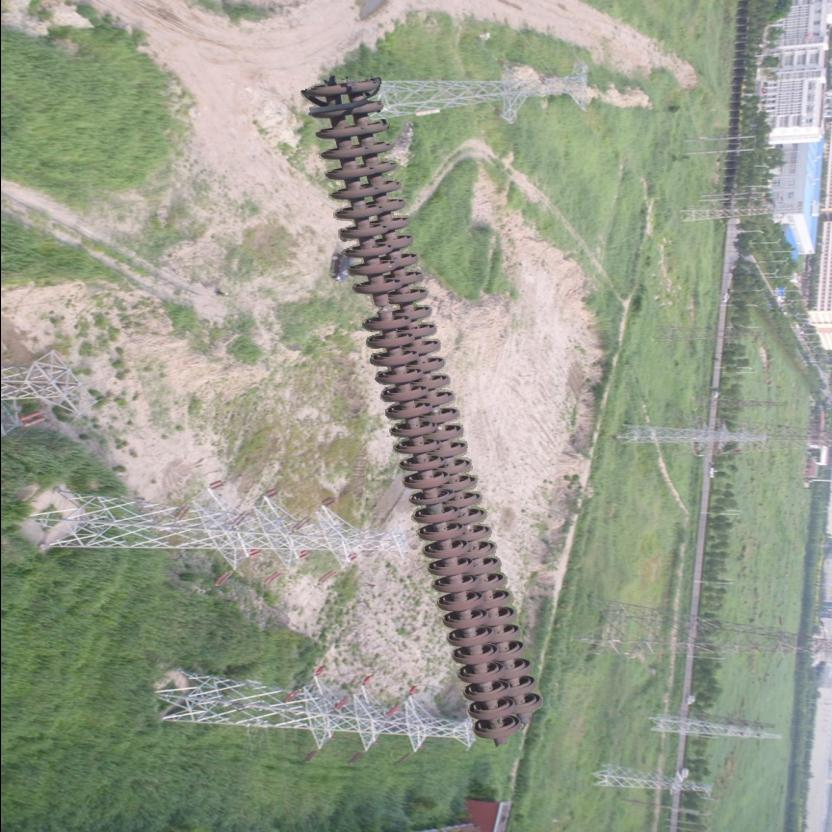defect: (351, 278, 415, 338)
